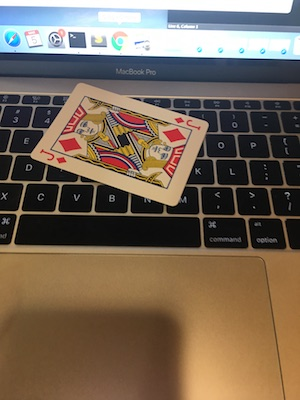JackOfDiamonds: (24, 78, 222, 216)
